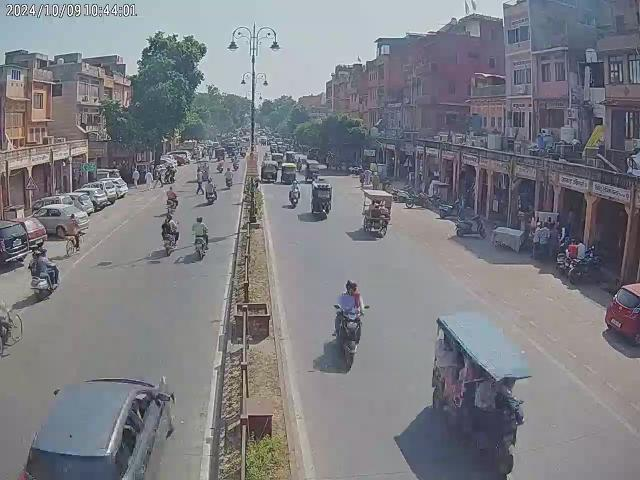auto: (436, 312, 534, 474), (312, 178, 332, 217), (260, 160, 278, 184), (280, 162, 297, 184)
bicycle-rider: (65, 213, 85, 259)
car: (18, 376, 174, 480), (30, 194, 90, 236), (605, 280, 640, 343), (78, 177, 128, 203)
helmet: (343, 280, 358, 294), (30, 250, 42, 260), (39, 248, 48, 256), (166, 214, 174, 220), (195, 216, 203, 222)
motorbike: (566, 253, 602, 282)
motorbike-rider: (160, 212, 180, 255), (192, 216, 209, 258), (166, 187, 178, 213)
scooty: (456, 214, 488, 238), (438, 198, 466, 218)
scooty-rider: (330, 279, 368, 367), (27, 246, 60, 300), (288, 180, 302, 208), (204, 178, 218, 203)
vendor: (361, 188, 394, 238)
